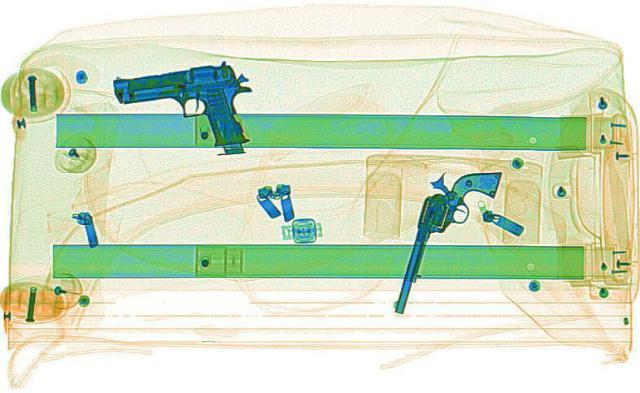Gun: (390, 163, 502, 318), (106, 57, 272, 154)
